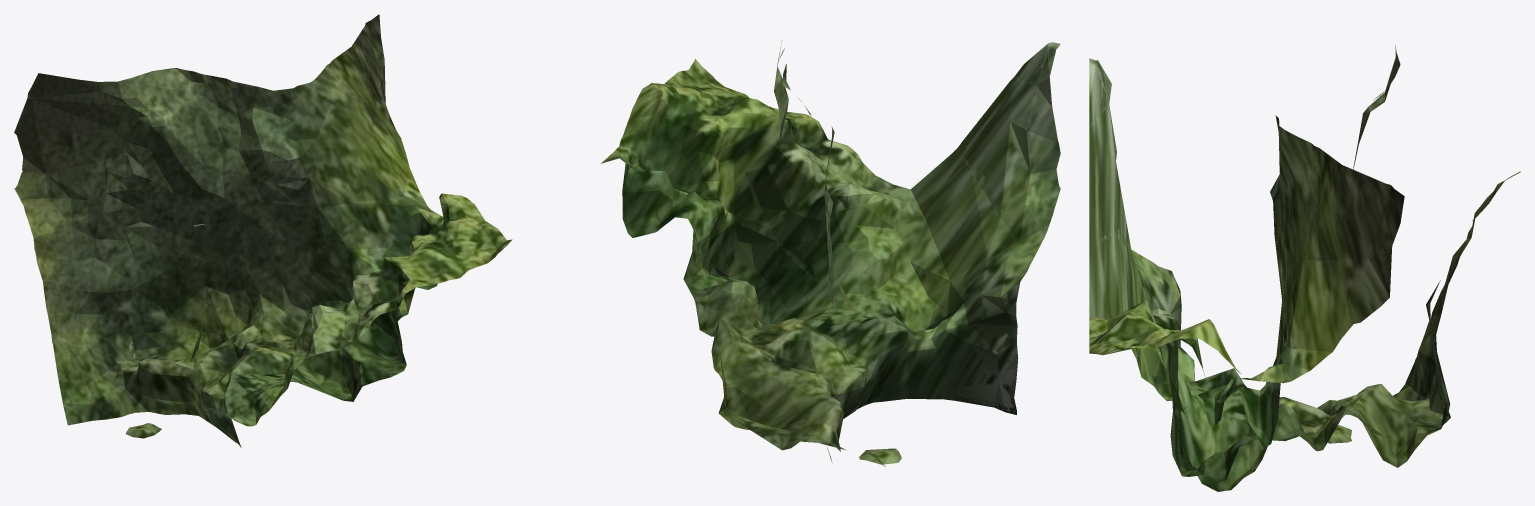
The picture shows the model from 3 angles, left to right: view 1: azimuth 30°, elevation 25°; view 2: azimuth 150°, elevation 25°; view 3: azimuth 270°, elevation 25°; orthographic projection. The views are drawn at different scales.
Size of the model in its own units: 5.9 by 5.9 by 5.9.
Materials: 5 (5 with a texture image).
